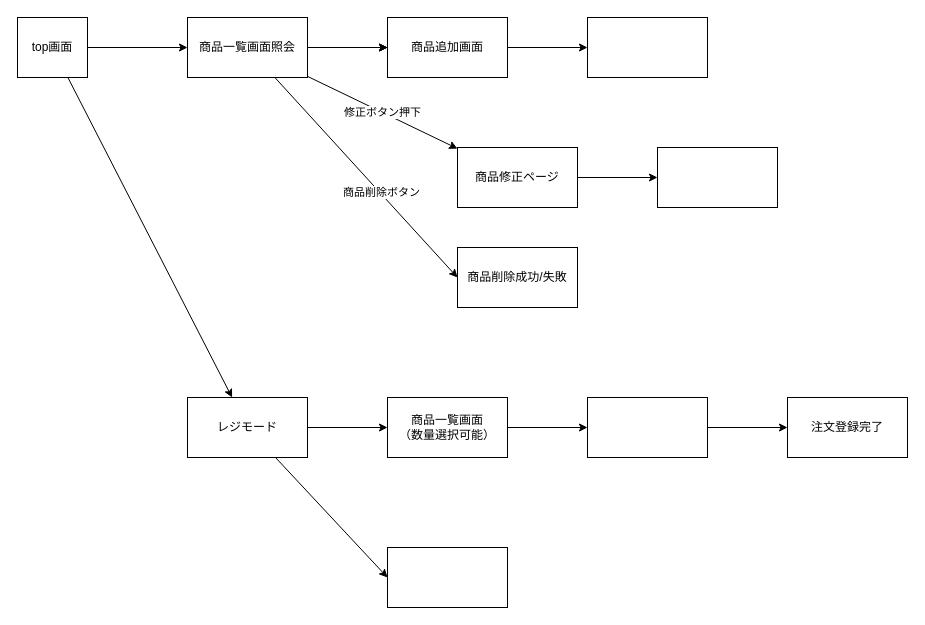
The diagram is 925 pixels wide and 625 high, and some of its shapes have lost their labels. Each missing label, with the centre of its shape:
商品修正成功/失敗: [717,177]
商品注文一覧: [447,577]
商品追加成功/失敗: [647,47]
注文内容確認 （合計金額）: [647,427]
